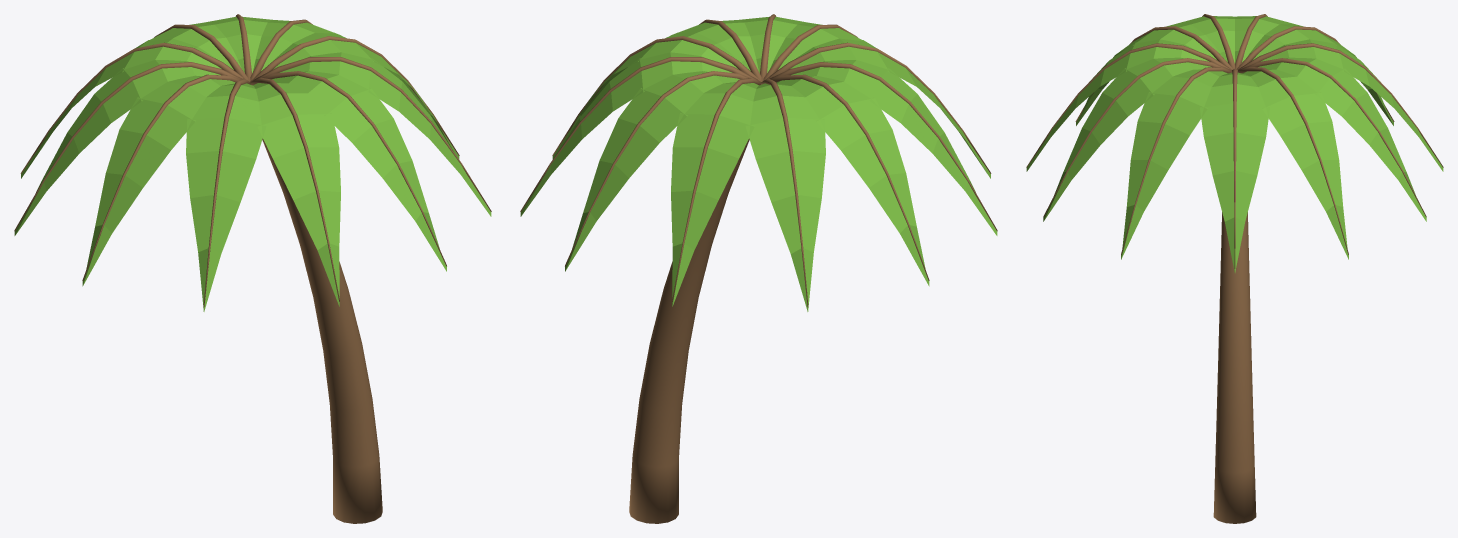
File: CoastalPalm_2.fbx
3 renders of one model, left to right at view 1: azimuth 30°, elevation 25°; view 2: azimuth 150°, elevation 25°; view 3: azimuth 270°, elevation 25°, orthographic. The views are drawn at different scales.
Parts seen in each view (by area): view 1: Palm_Leaf.001, Palm_Wood.001; view 2: Palm_Leaf.001, Palm_Wood.001; view 3: Palm_Leaf.001, Palm_Wood.001.
Part boxes in pixels (left/top/right/bottom): Palm_Leaf.001: left=14, top=16, right=491, bottom=311; Palm_Wood.001: left=14, top=14, right=491, bottom=523; Palm_Leaf.001: left=520, top=16, right=997, bottom=311; Palm_Wood.001: left=520, top=14, right=997, bottom=523; Palm_Leaf.001: left=1026, top=16, right=1443, bottom=272; Palm_Wood.001: left=1026, top=14, right=1443, bottom=523.
Bounding box in the file's own units: 608 × 685 × 615.
